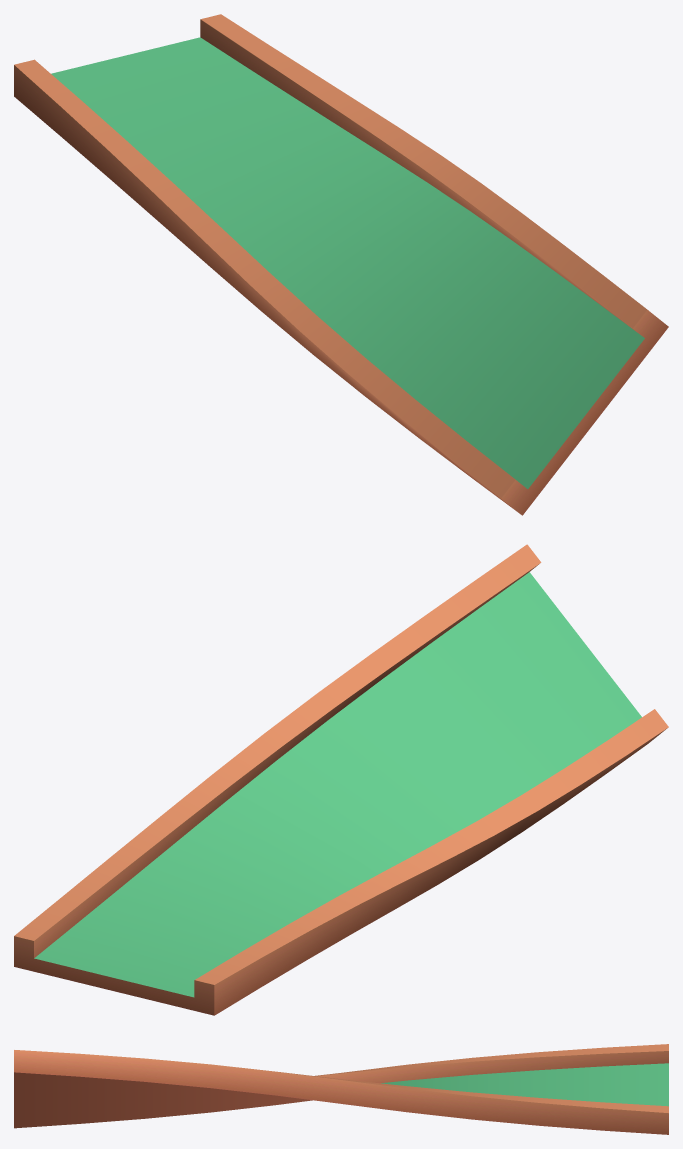
The model's file is spline-default-straight-skew-right.glb.
3 renders of one model, top to bottom at view 1: azimuth 30°, elevation 25°; view 2: azimuth 150°, elevation 25°; view 3: azimuth 270°, elevation 25°, orthographic. The views are drawn at different scales.
Parts seen in each view (by area): view 1: spline-default-straight-skew-right; view 2: spline-default-straight-skew-right; view 3: spline-default-straight-skew-right.
Boxes of the visible parts, x1,y1,x2,y2 form: spline-default-straight-skew-right: (14, 14, 668, 515); spline-default-straight-skew-right: (14, 544, 668, 1015); spline-default-straight-skew-right: (14, 1044, 668, 1134).
Size of the model in its own units: 1.02 by 0.8106 by 4.
1 material, 1 textured.
